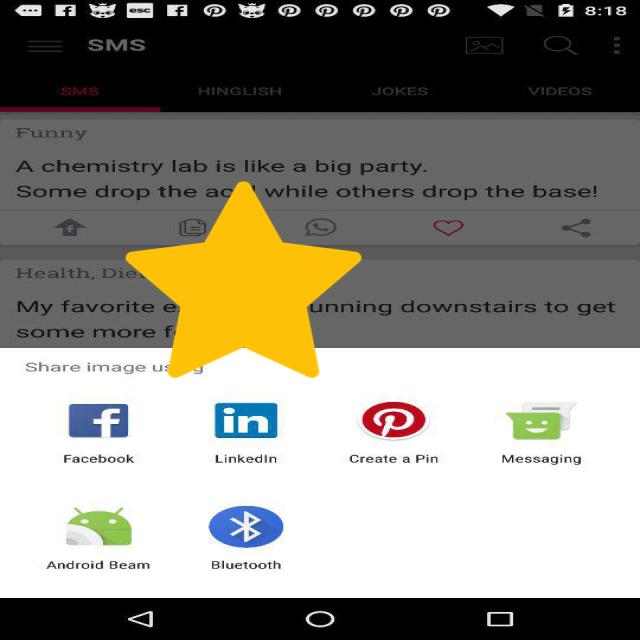forced continuity: (126, 181, 362, 378)
